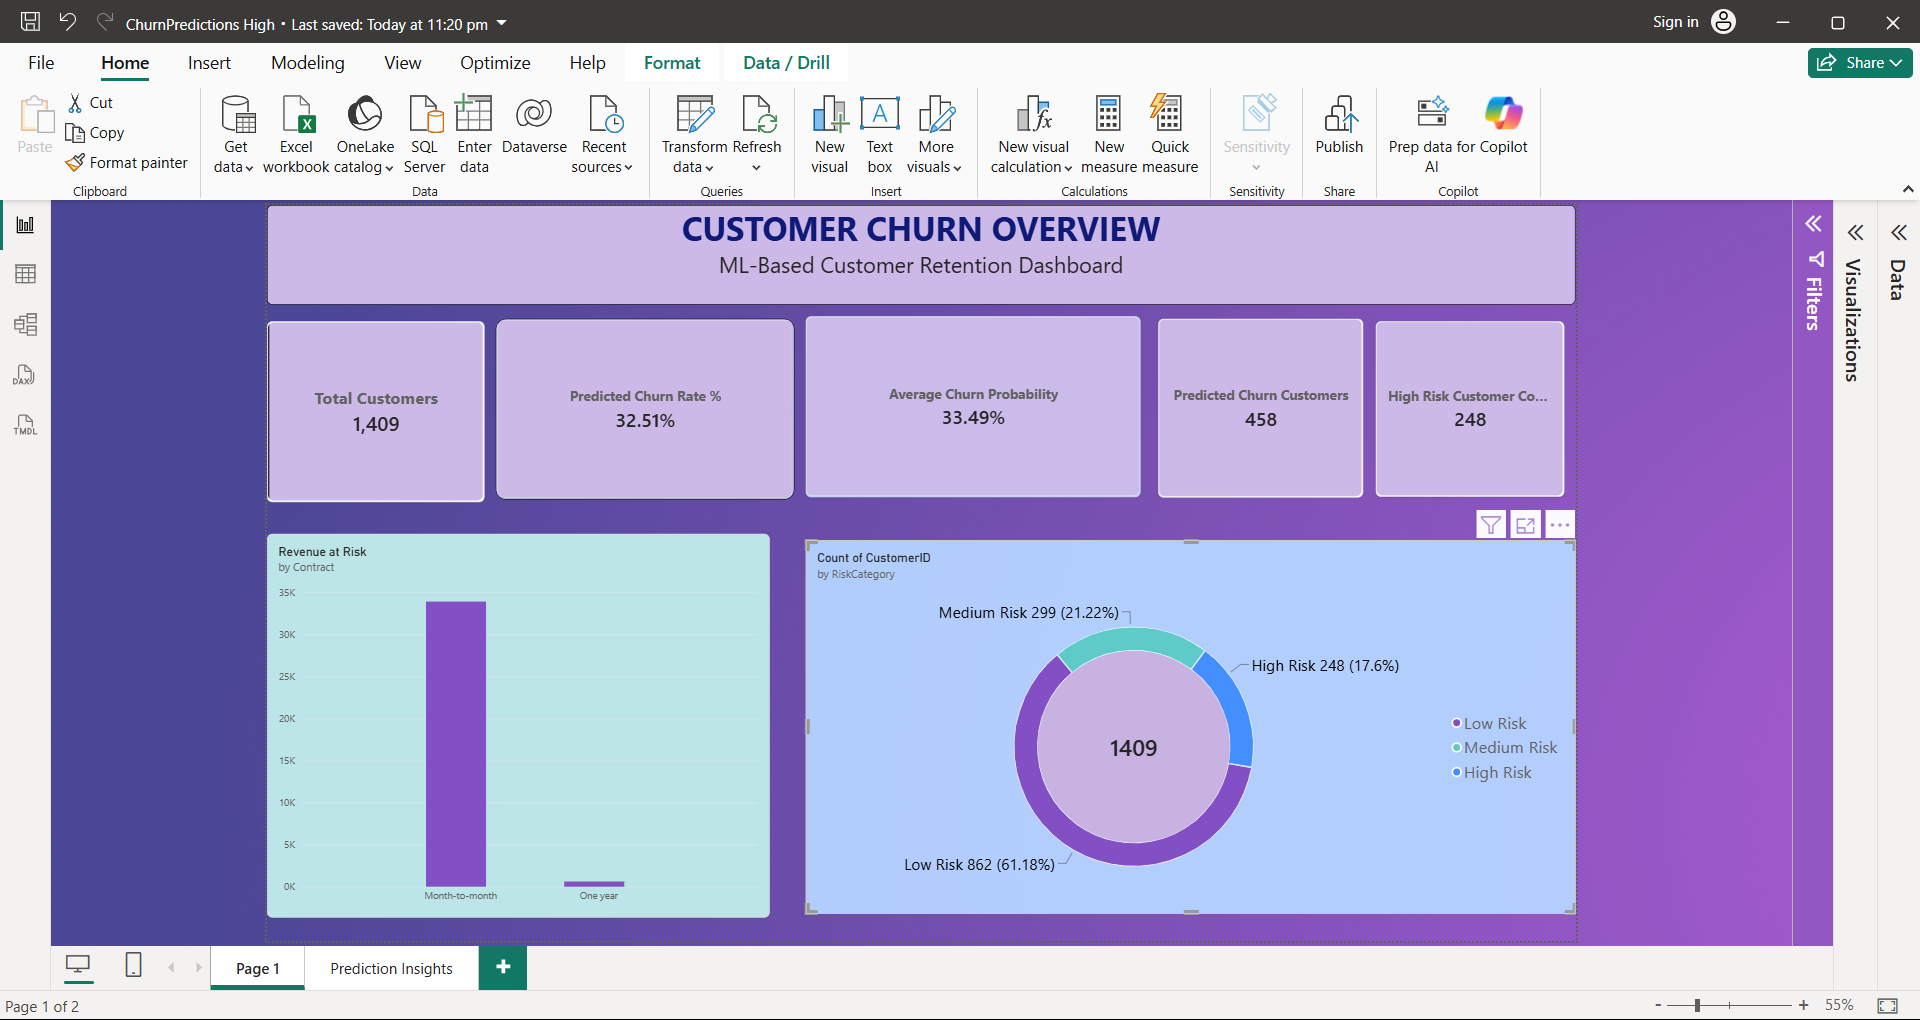

The page's visual inventory and layout, read from the dashboard file:
{"tool":"powerbi","page":{"name":"Page 1","canvas":[1920,1080],"ordinal":0},"visuals":[{"type":"cardVisual","fields":{"Data":["ChurnPredictions.Overall Churn Rate %"]},"box":[335.9,167,438.4,266],"z":0},{"type":"columnChart","fields":{"Category":["ChurnPredictions.Contract"],"Y":["ChurnPredictions.Revenue at Risk"]},"box":[0,482.4,737.4,563.1],"z":1000},{"type":"cardVisual","fields":{"Data":["ChurnPredictions.High Risk Customer Count"]},"box":[1627.5,170.7,276.5,258],"z":2000},{"type":"cardVisual","fields":{"Data":["ChurnPredictions.Predicted Churn Customers"]},"box":[1307.8,166.9,300.8,262.3],"z":3000},{"type":"cardVisual","fields":{"Data":["ChurnPredictions.Average Churn Probability"]},"box":[790.6,163.3,491.6,266],"z":4000},{"type":"donutChart","fields":{"Category":["ChurnPredictions.RiskCategory"],"Y":["CountNonNull(ChurnPredictions.CustomerID)"]},"box":[790.6,491.6,1129.9,548.4],"z":5000},{"type":"textbox","box":[0,0,1920.1,146.6],"z":6000},{"type":"cardVisual","fields":{"Data":["ChurnPredictions.Total Customers Display"]},"box":[0,170.7,319.2,265.4],"z":7000}]}

Visuals, with their boxes on the page's 1920x1080 design canvas (x1, y1, x2, y2). These are canvas units, not pixel positions in the 1920x1020 screenshot, which may show the page scaled, cropped or inside an application window:
cardVisual - ChurnPredictions.Overall Churn Rate %: 336:167:774:433
columnChart - ChurnPredictions.Contract x ChurnPredictions.Revenue at Risk: 0:482:737:1046
cardVisual - ChurnPredictions.High Risk Customer Count: 1628:171:1904:429
cardVisual - ChurnPredictions.Predicted Churn Customers: 1308:167:1609:429
cardVisual - ChurnPredictions.Average Churn Probability: 791:163:1282:429
donutChart - ChurnPredictions.RiskCategory x CountNonNull(ChurnPredictions.CustomerID): 791:492:1920:1040
textbox: 0:0:1920:147
cardVisual - ChurnPredictions.Total Customers Display: 0:171:319:436
